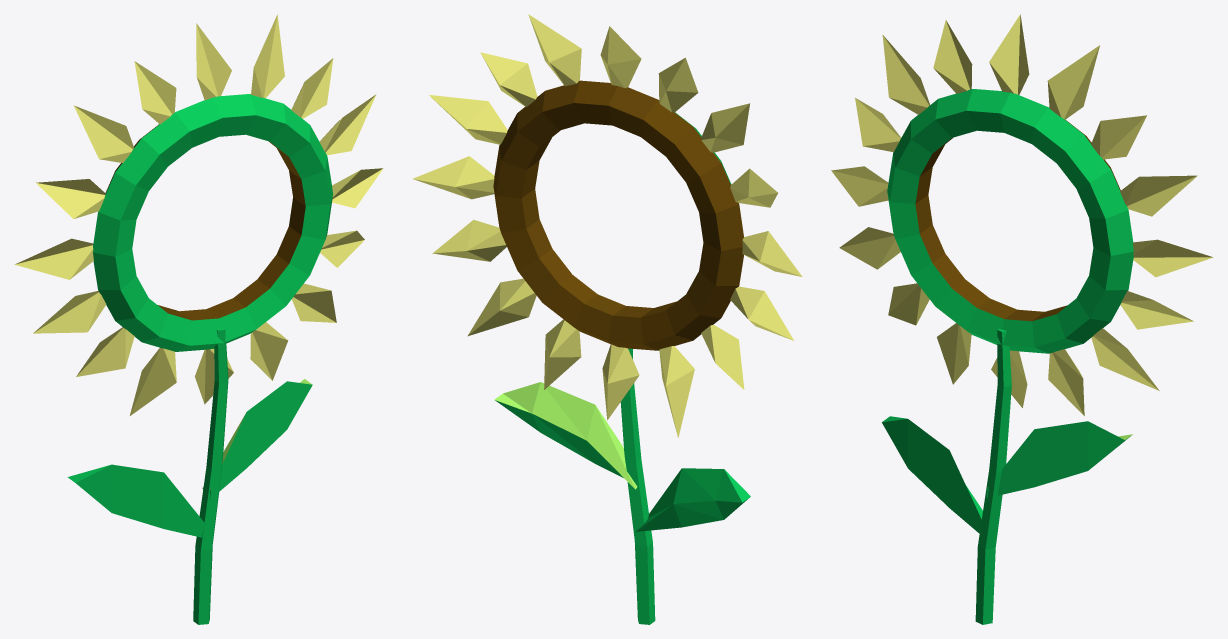
The model's file is sunflower_torus_hifi.obj.
3 renders of one model, left to right at view 1: azimuth 30°, elevation 25°; view 2: azimuth 150°, elevation 25°; view 3: azimuth 330°, elevation 25°, orthographic. The views are drawn at different scales.
Visible parts, largest first — view 1: torus, leaf_-1, stem, leaf_1, petal_08, petal_06, petal_07, petal_09, petal_11, petal_04, petal_03, petal_05 (+8 smaller); view 2: torus, leaf_1, leaf_-1, stem, petal_14, petal_00, petal_01, petal_15, petal_03, petal_11, petal_13, petal_06 (+8 smaller); view 3: torus, leaf_1, stem, leaf_-1, petal_03, petal_04, petal_01, petal_06, petal_00, petal_05, petal_02, petal_14 (+8 smaller).
Boxes of the visible parts, <box> form: torus: <box>93,94,332,351</box>; leaf_-1: <box>67,464,204,537</box>; stem: <box>193,328,228,624</box>; leaf_1: <box>202,379,312,498</box>; petal_08: <box>15,238,93,279</box>; petal_06: <box>73,105,133,162</box>; petal_07: <box>36,179,105,218</box>; petal_09: <box>33,291,106,333</box>; petal_11: <box>130,347,176,415</box>; petal_04: <box>196,23,231,100</box>; petal_03: <box>251,14,284,98</box>; petal_05: <box>134,61,176,124</box>; torus: <box>493,80,743,350</box>; leaf_1: <box>494,382,637,489</box>; leaf_-1: <box>636,468,750,531</box>; stem: <box>620,348,655,624</box>; petal_14: <box>467,278,536,336</box>; petal_00: <box>412,156,494,199</box>; petal_01: <box>429,95,507,144</box>; petal_15: <box>432,219,506,261</box>; petal_03: <box>528,14,581,86</box>; petal_11: <box>659,346,694,437</box>; petal_13: <box>544,319,581,389</box>; petal_06: <box>701,103,749,152</box>; torus: <box>887,89,1133,353</box>; leaf_1: <box>986,421,1132,497</box>; stem: <box>975,329,1011,624</box>; leaf_-1: <box>882,416,982,533</box>; petal_03: <box>1047,45,1099,119</box>; petal_04: <box>989,14,1029,94</box>; petal_01: <box>1120,175,1197,216</box>; petal_06: <box>882,35,929,114</box>; petal_00: <box>1132,239,1213,277</box>; petal_05: <box>933,20,972,93</box>; petal_02: <box>1091,115,1146,159</box>; petal_14: <box>1091,328,1159,390</box>.
Bounding box in the file's own units: 2.88 × 4.3 × 0.3449.
